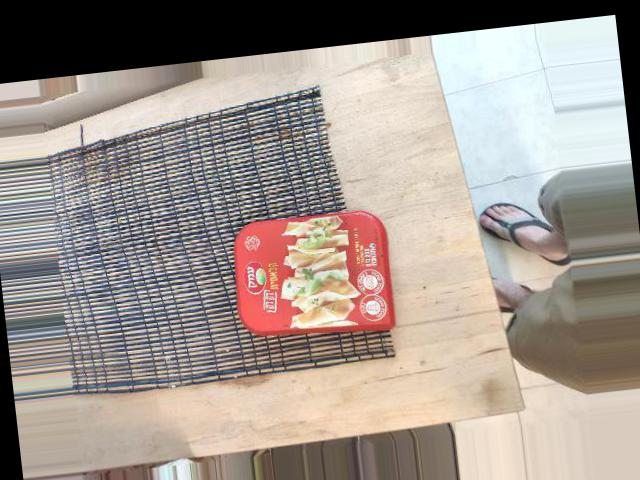cheese: (191, 78, 337, 280)
